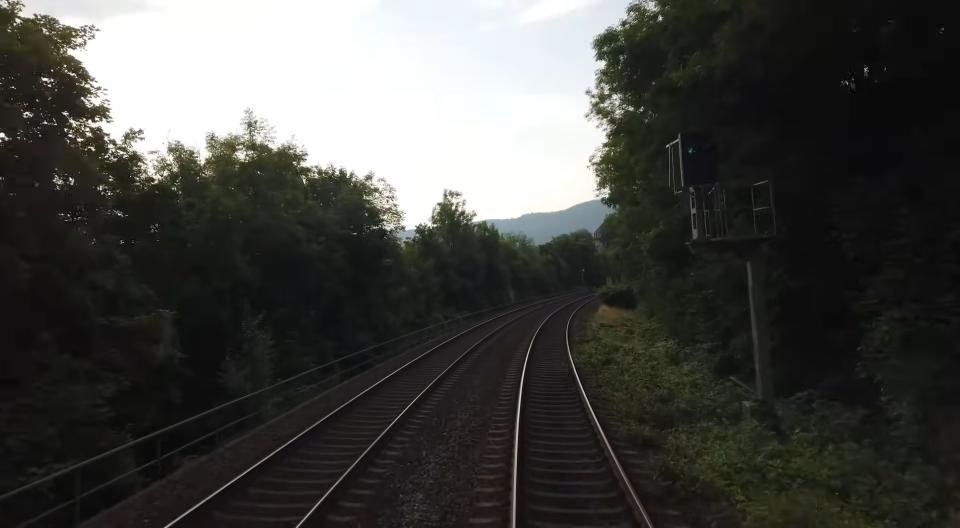Plant: (571, 306, 960, 528)
